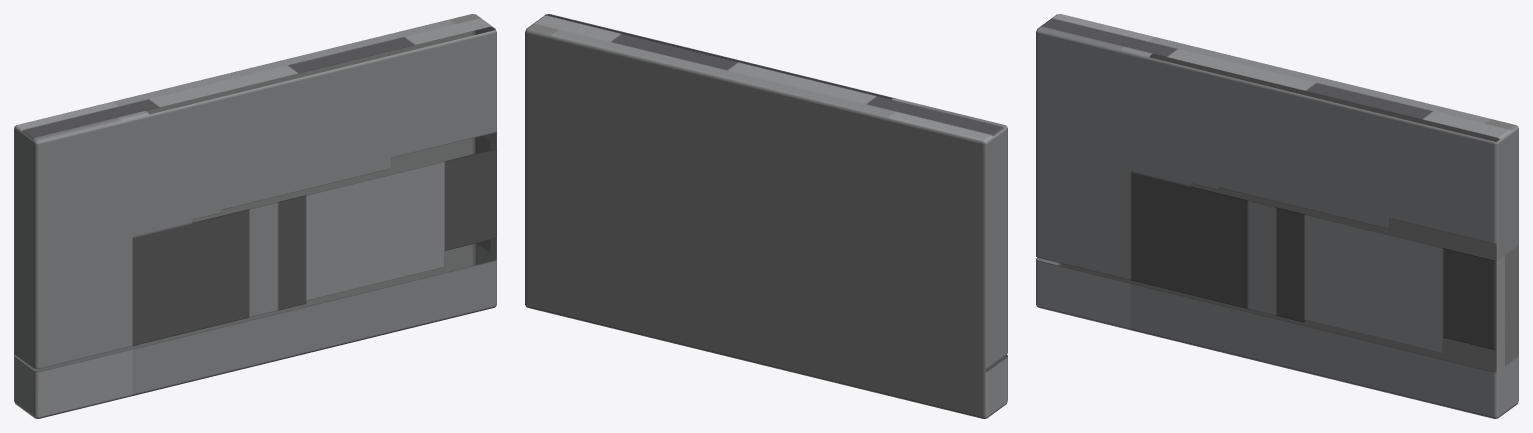
The picture shows the model from 3 angles, left to right: view 1: azimuth 30°, elevation 25°; view 2: azimuth 150°, elevation 25°; view 3: azimuth 330°, elevation 25°; orthographic projection.
Size of the model in its own units: 1.02 by 0.5885 by 0.09.
